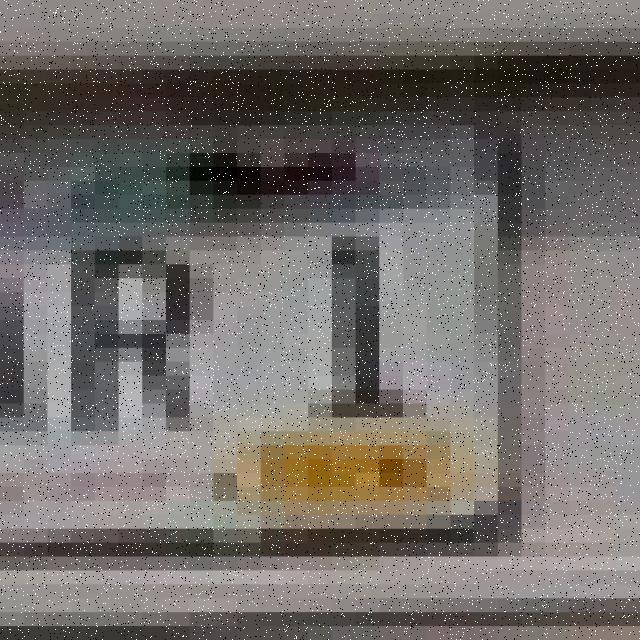LicensePlate: (0, 57, 609, 612)
